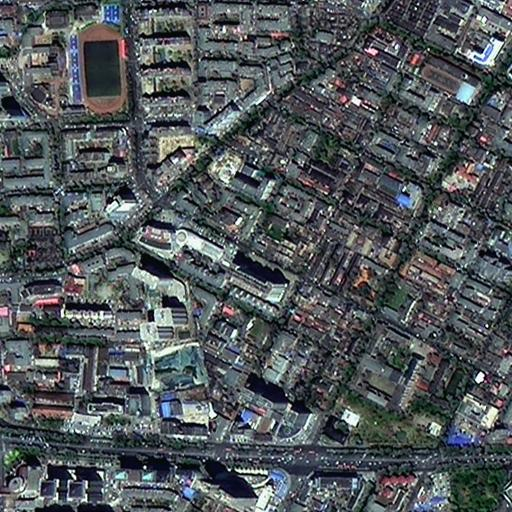school: (17, 1, 126, 118), (396, 44, 480, 105)
